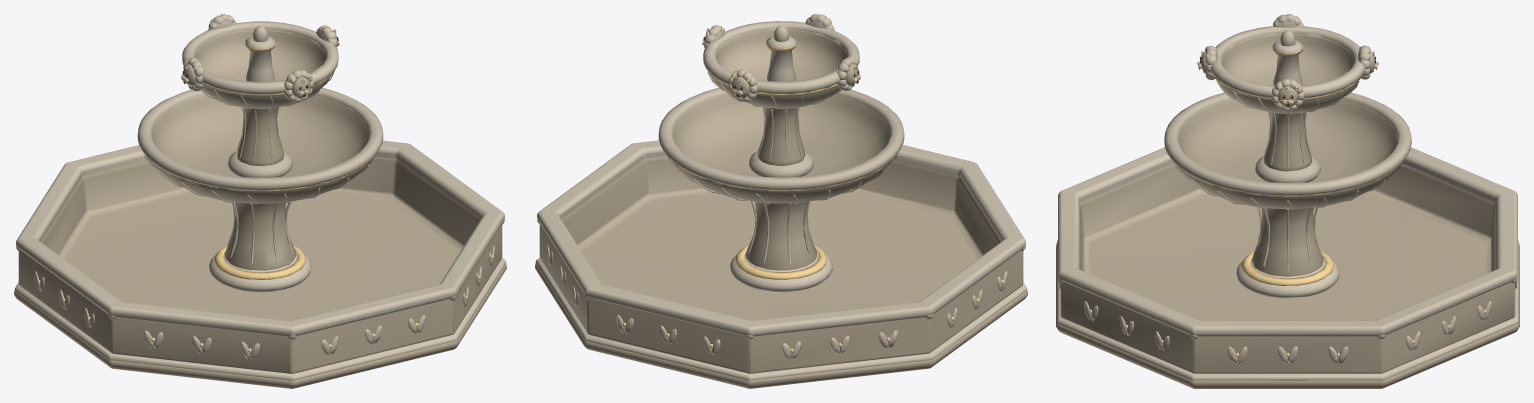
Rendered from grand_fountain.glb.
The picture shows the model from 3 angles, left to right: view 1: azimuth 30°, elevation 25°; view 2: azimuth 150°, elevation 25°; view 3: azimuth 270°, elevation 25°; orthographic projection.
Visible parts, largest first — view 1: Anime_Fountain_high_rim_Dry; view 2: Anime_Fountain_high_rim_Dry; view 3: Anime_Fountain_high_rim_Dry.
Part boxes in pixels (x1,y1,x2,y2): Anime_Fountain_high_rim_Dry: (14,14,506,388); Anime_Fountain_high_rim_Dry: (535,14,1027,388); Anime_Fountain_high_rim_Dry: (1056,14,1519,388).
Size of the model in its own units: 8.46 by 5.32 by 8.46.
